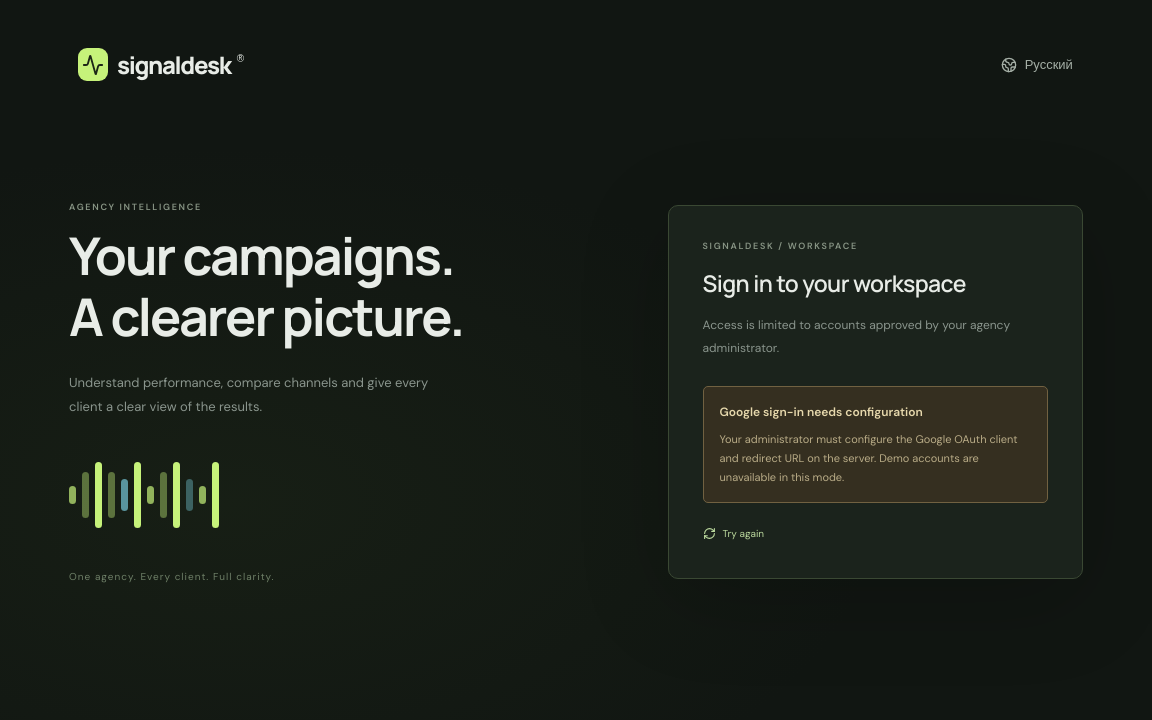
Test: Production authentication shell › shows honest unconfigured state with no mock identities and localizes it
The width and height of the screenshot is (1152, 720).
Check: the text "Google sign-in needs configuration" is shown, box [720,404,923,420]
Click the button "Русский" at (1037, 64), box [991,38,1083,91]
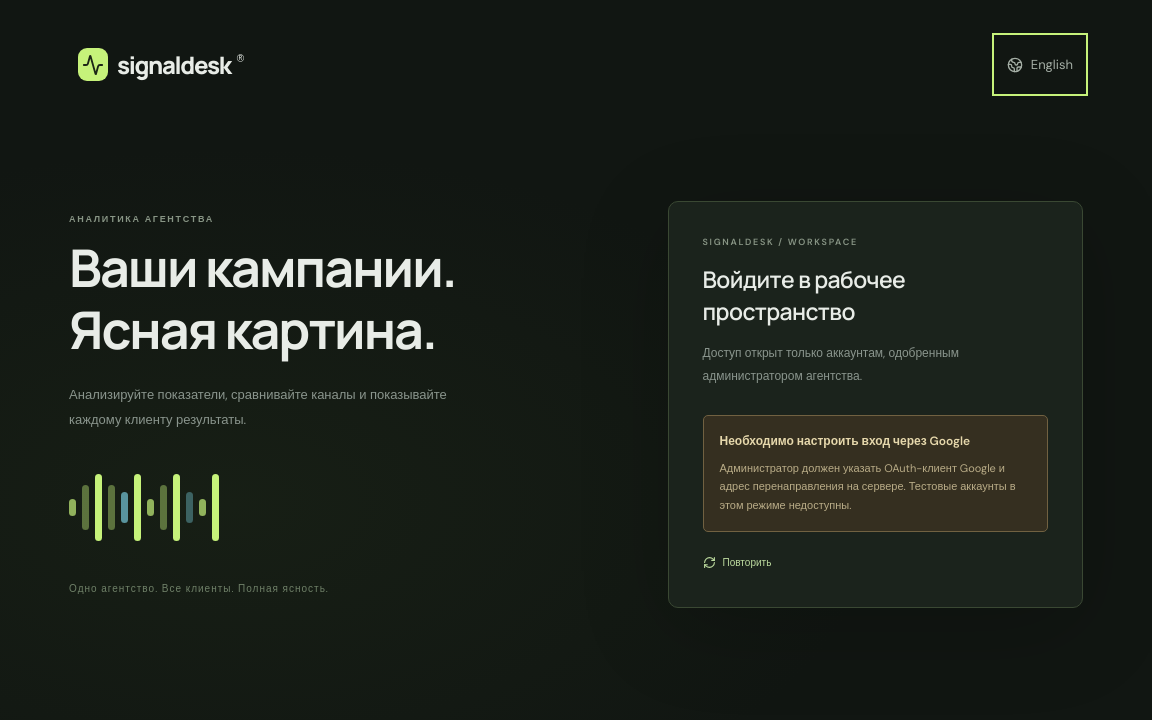
Check: the text "Необходимо настроить вход через Google" is shown, box [720,433,970,449]
